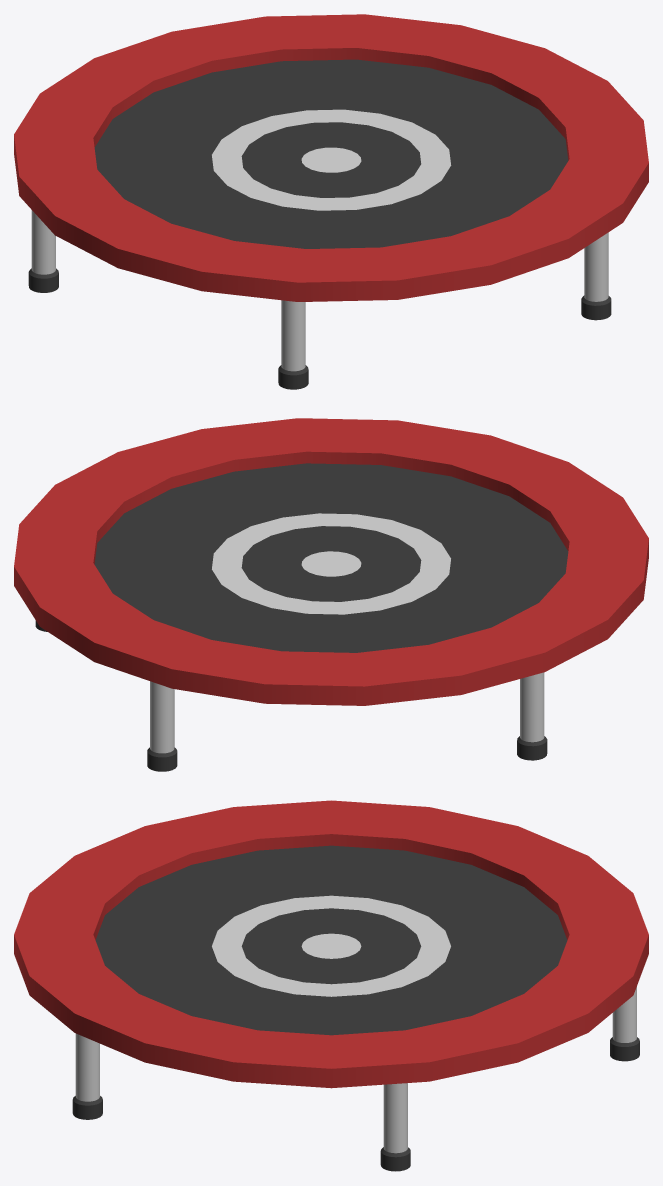
The model's file is Park_TRAMPOLINE.fbx.
3 views of the same model, one above another, from view 1: azimuth 30°, elevation 25°; view 2: azimuth 150°, elevation 25°; view 3: azimuth 270°, elevation 25° (orthographic).
Parts seen in each view (by area): view 1: polySurface702; view 2: polySurface702; view 3: polySurface702.
Part boxes in pixels (x1,y1,x2,y2): polySurface702: [14, 14, 648, 389]; polySurface702: [14, 418, 648, 771]; polySurface702: [14, 800, 648, 1171].
Size of the model in its own units: 3.84 by 0.7322 by 3.84.
